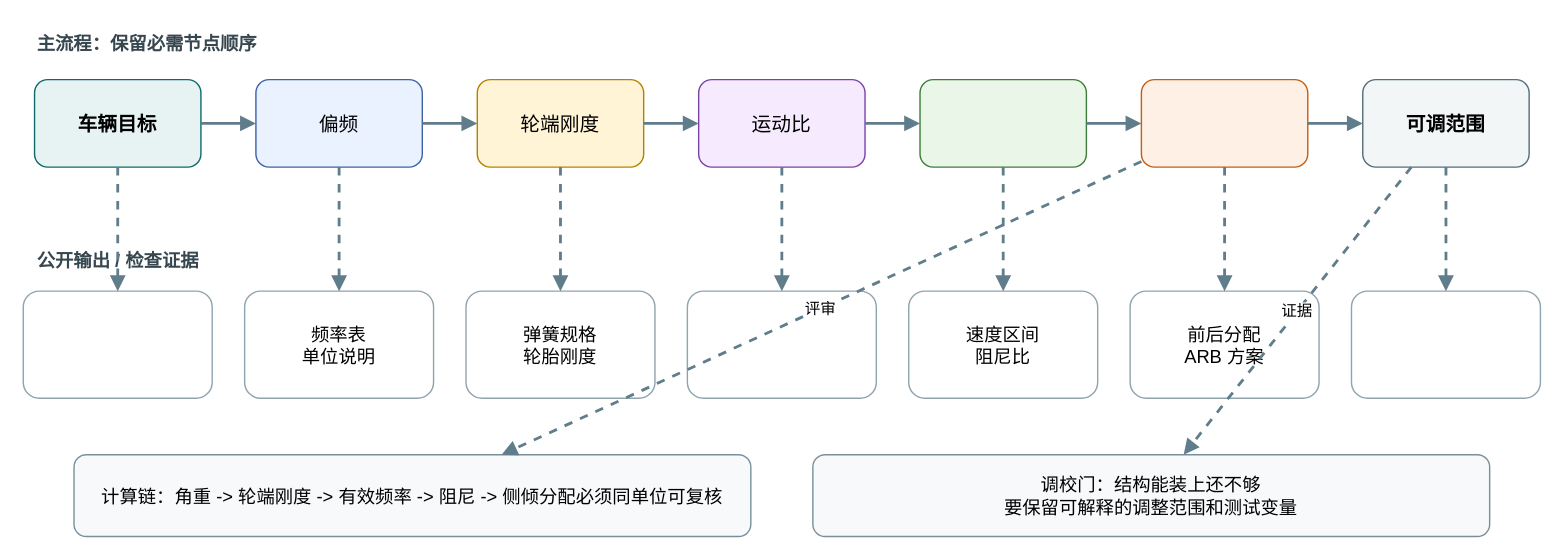
Some shapes in this 1564 by 560 pixel diagram are drawn without their labels. Each missing label, with the box of its shape:
MR 曲线 行程裕度: (686, 290, 876, 398)
侧倾刚度: (1140, 78, 1308, 167)
初始设定 测试顺序: (1350, 290, 1540, 398)
角重/姿态 赛事目标: (22, 290, 212, 398)
阻尼: (919, 78, 1086, 167)
